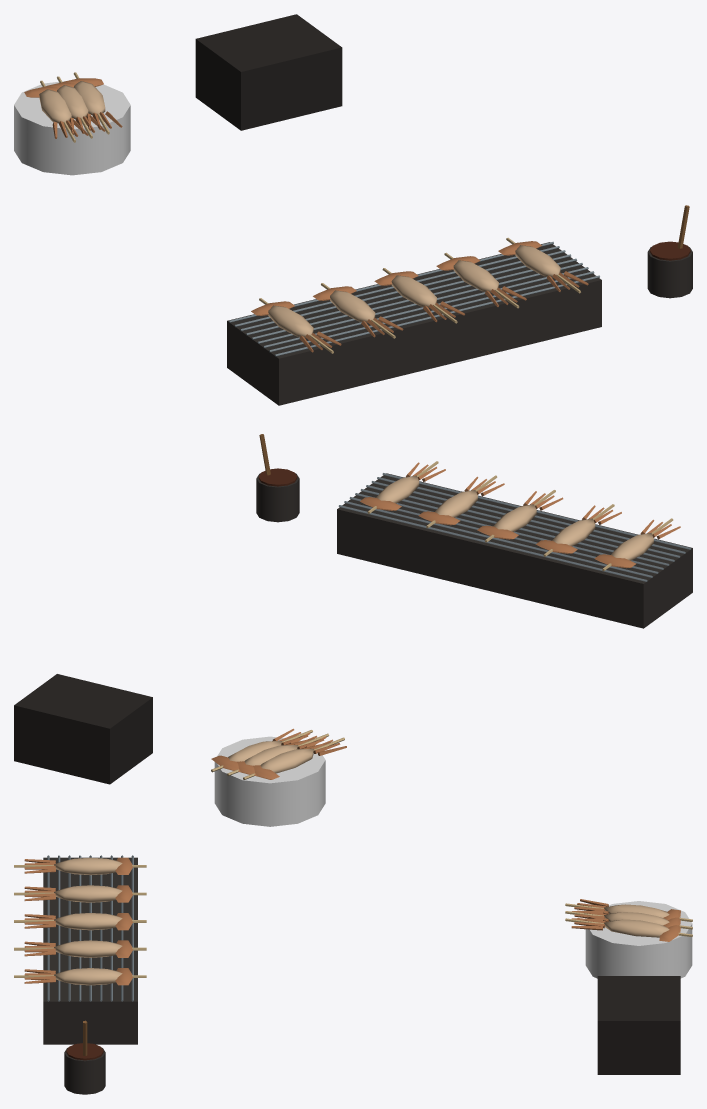
The model's file is goods_ikayaki.glb.
3 renders of one model, top to bottom at view 1: azimuth 30°, elevation 25°; view 2: azimuth 150°, elevation 25°; view 3: azimuth 270°, elevation 25°, orthographic. The views are drawn at different scales.
Visible parts, largest first — view 1: goods_ikayaki; view 2: goods_ikayaki; view 3: goods_ikayaki.
Boxes of the visible parts, x1=… form: goods_ikayaki: x1=14, y1=14, x2=692, y2=405; goods_ikayaki: x1=14, y1=434, x2=692, y2=826; goods_ikayaki: x1=14, y1=855, x2=692, y2=1094.
Size of the model in its own units: 1.55 by 0.3086 by 2.29.
